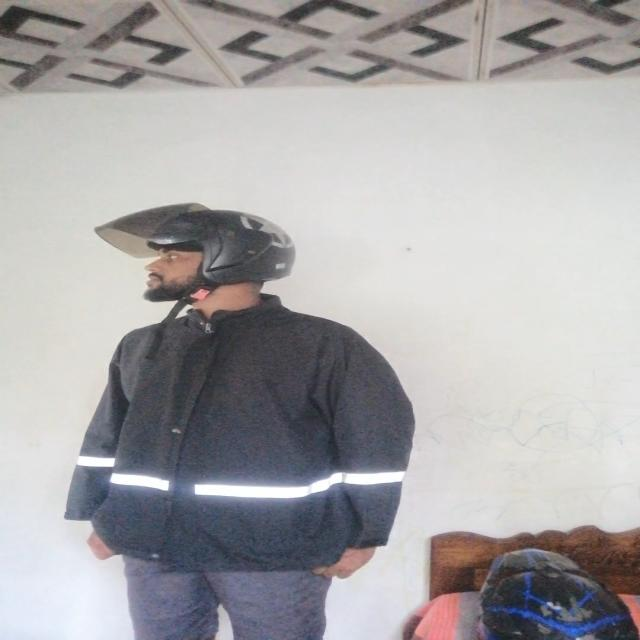Helmet_Wearer: (92, 200, 347, 317)
Jacket_Wearer: (77, 302, 419, 585)
Person: (83, 198, 422, 640)
